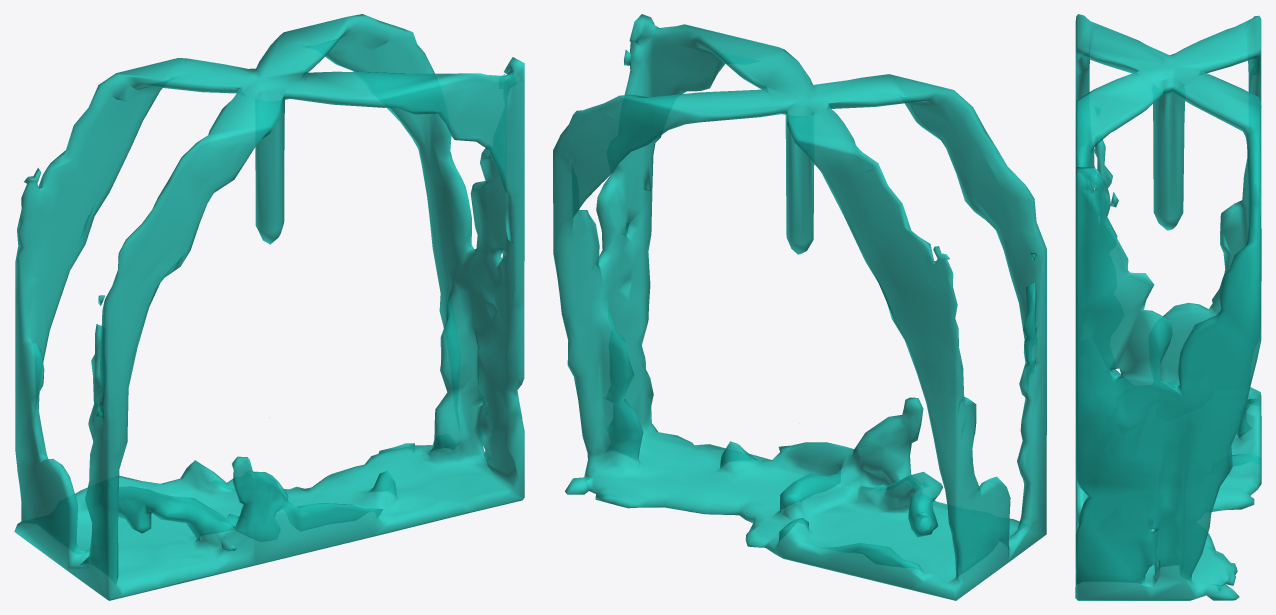
The picture shows the model from 3 angles, left to right: view 1: azimuth 30°, elevation 25°; view 2: azimuth 150°, elevation 25°; view 3: azimuth 270°, elevation 25°; orthographic projection. The views are drawn at different scales.
Visible parts, largest first — view 1: Liquid_Domain; view 2: Liquid_Domain; view 3: Liquid_Domain.
Part boxes in pixels (x1,y1,x2,y2): Liquid_Domain: (14,14,524,600); Liquid_Domain: (553,14,1046,600); Liquid_Domain: (1075,14,1261,600).
Bounding box in the file's own units: 884 × 884 × 345.
